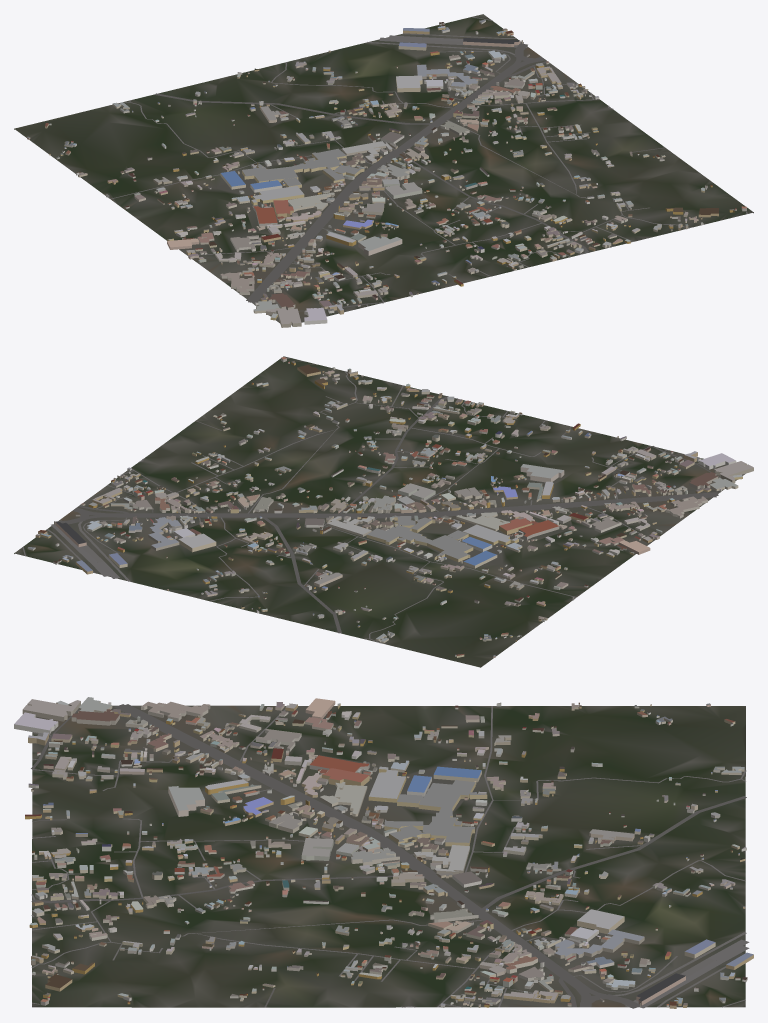
3 views of the same model, one above another, from view 1: azimuth 30°, elevation 25°; view 2: azimuth 150°, elevation 25°; view 3: azimuth 270°, elevation 25° (orthographic). The views are drawn at different scales.
Visible parts, largest first — view 1: ground, buildings, roads; view 2: ground, buildings, roads; view 3: ground, buildings, roads.
Boxes of the visible parts, bbox=[...] form: ground: bbox=[14, 14, 753, 323]; buildings: bbox=[27, 19, 746, 327]; roads: bbox=[110, 16, 747, 316]; ground: bbox=[14, 356, 745, 667]; buildings: bbox=[27, 357, 753, 657]; roads: bbox=[22, 357, 722, 643]; ground: bbox=[32, 705, 745, 1007]; buildings: bbox=[14, 697, 753, 1008]; roads: bbox=[31, 704, 749, 1008].
Bounding box in the file's own units: 1435 × 18.79 × 1452.
